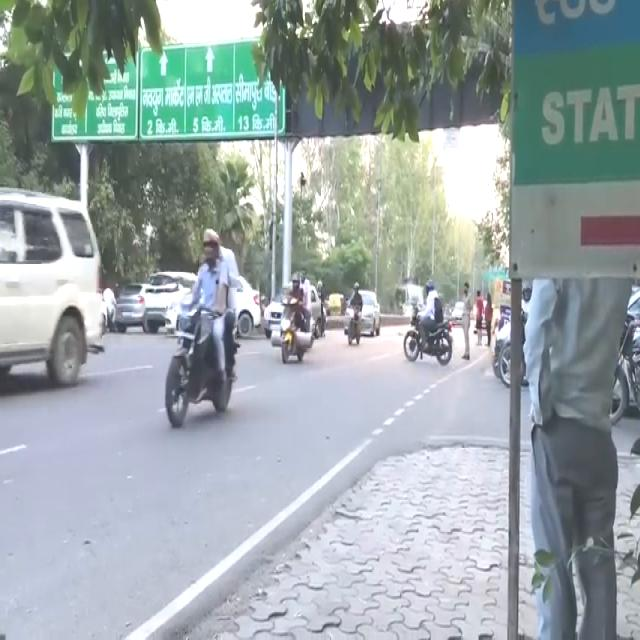MOTORCYCLE: (164, 296, 241, 432), (402, 306, 454, 368), (278, 296, 313, 365), (346, 303, 363, 348)
